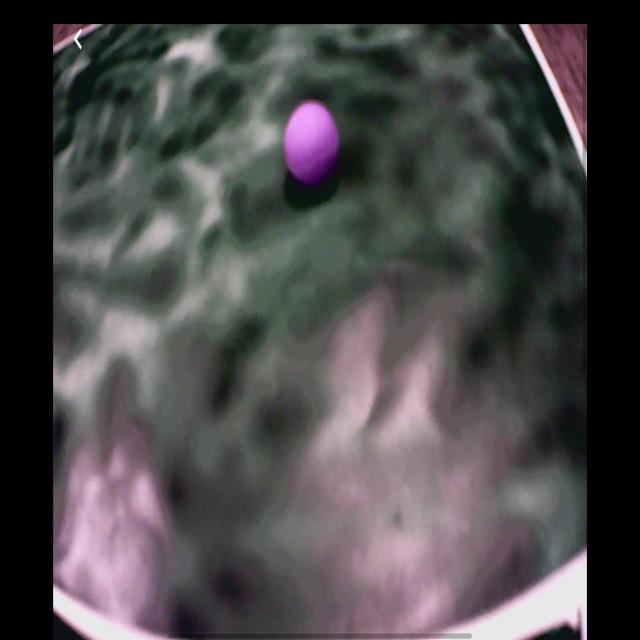ball: (283, 99, 341, 187)
